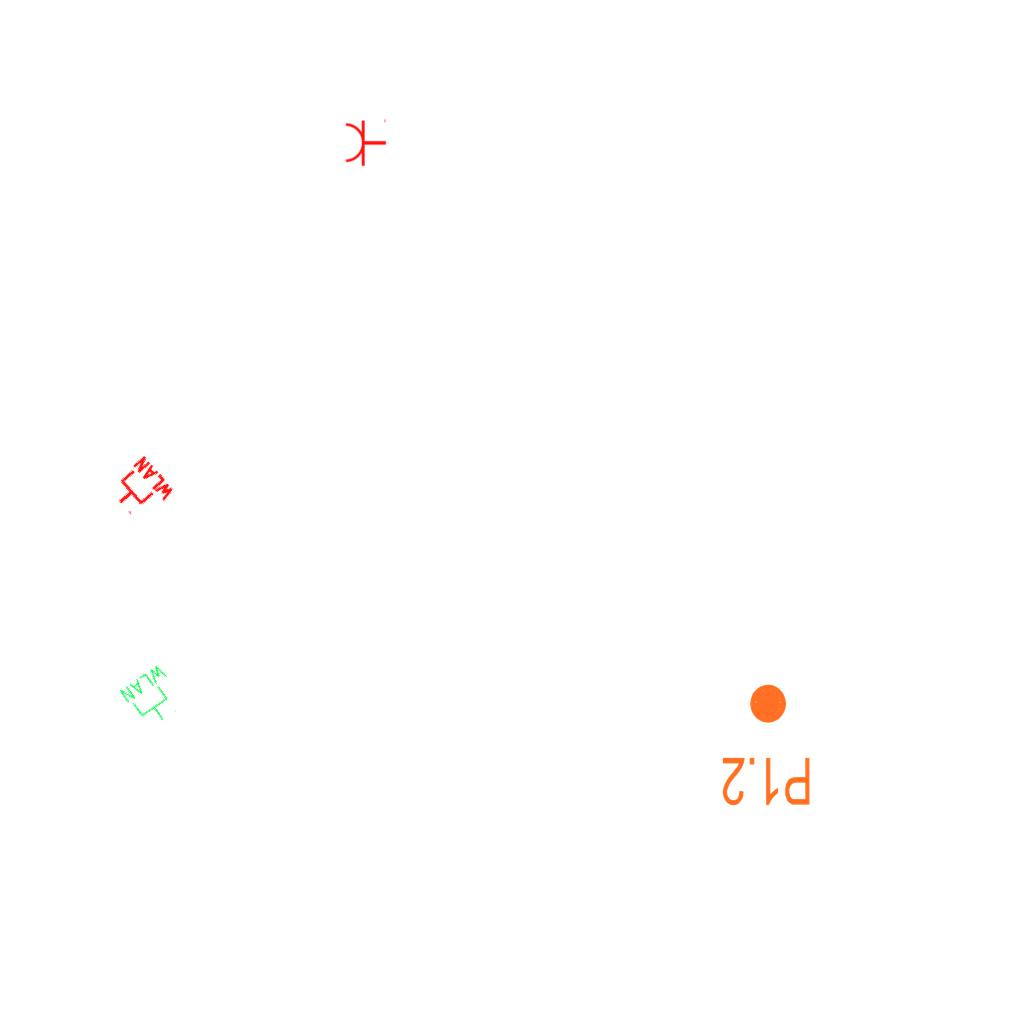Downlight_LED_Einbauleuchten_Flur: (720, 681, 813, 809)
Schukosteckdose_einfach: (344, 117, 387, 167)
WLAN: (116, 660, 190, 734), (104, 453, 178, 527)
